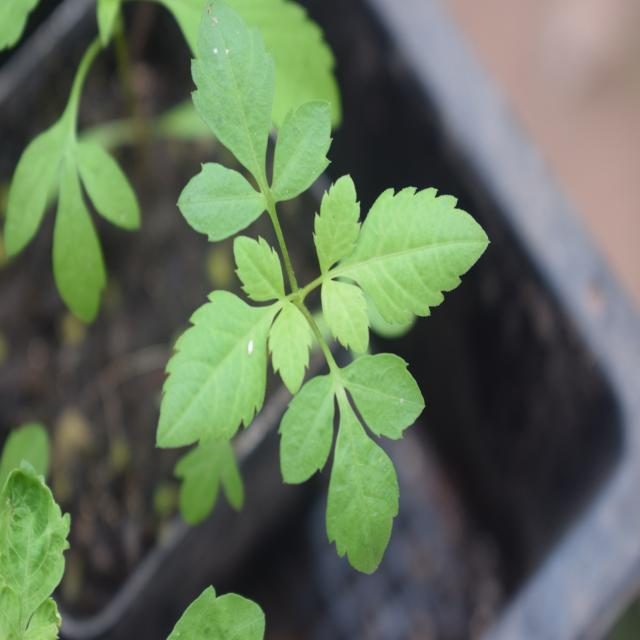Bidens pilosa: (152, 6, 503, 562)
